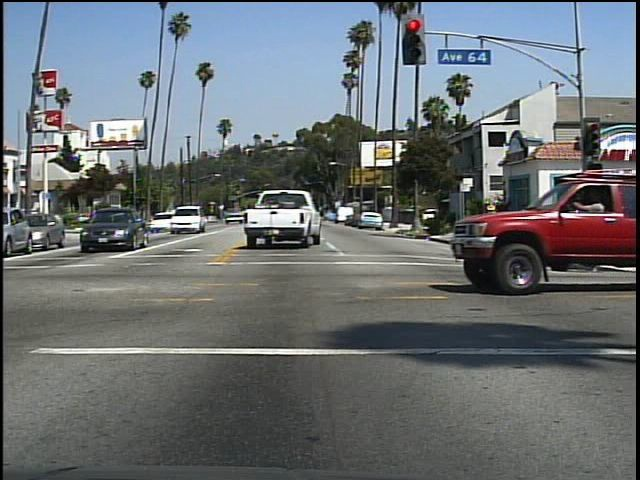person: (582, 182, 620, 290), (480, 199, 505, 236)
